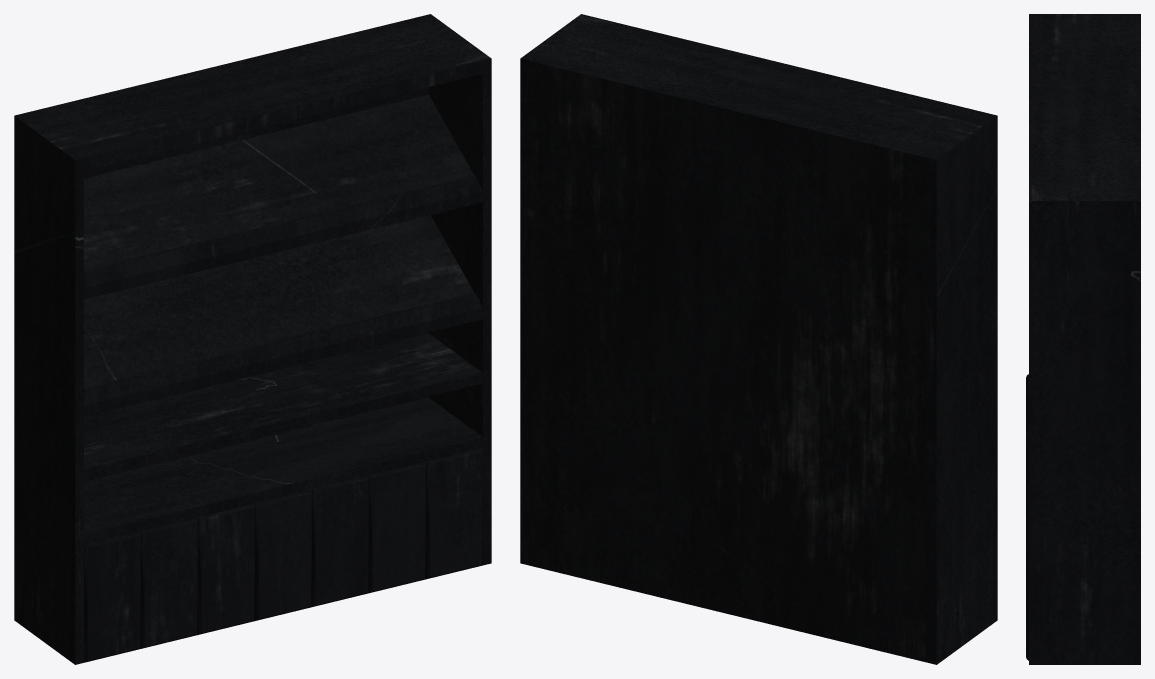
File: chenshanguizi.fbx
3 views of the same model, side by side, from view 1: azimuth 30°, elevation 25°; view 2: azimuth 150°, elevation 25°; view 3: azimuth 270°, elevation 25° (orthographic). The views are drawn at different scales.
Visible parts, largest first — view 1: chenshanguizi; view 2: chenshanguizi; view 3: chenshanguizi.
Boxes of the visible parts, x1=… form: chenshanguizi: x1=14, y1=14, x2=491, y2=664; chenshanguizi: x1=520, y1=14, x2=997, y2=664; chenshanguizi: x1=1026, y1=14, x2=1140, y2=664.
Bounding box in the file's own units: 233 × 269 × 60.47.
